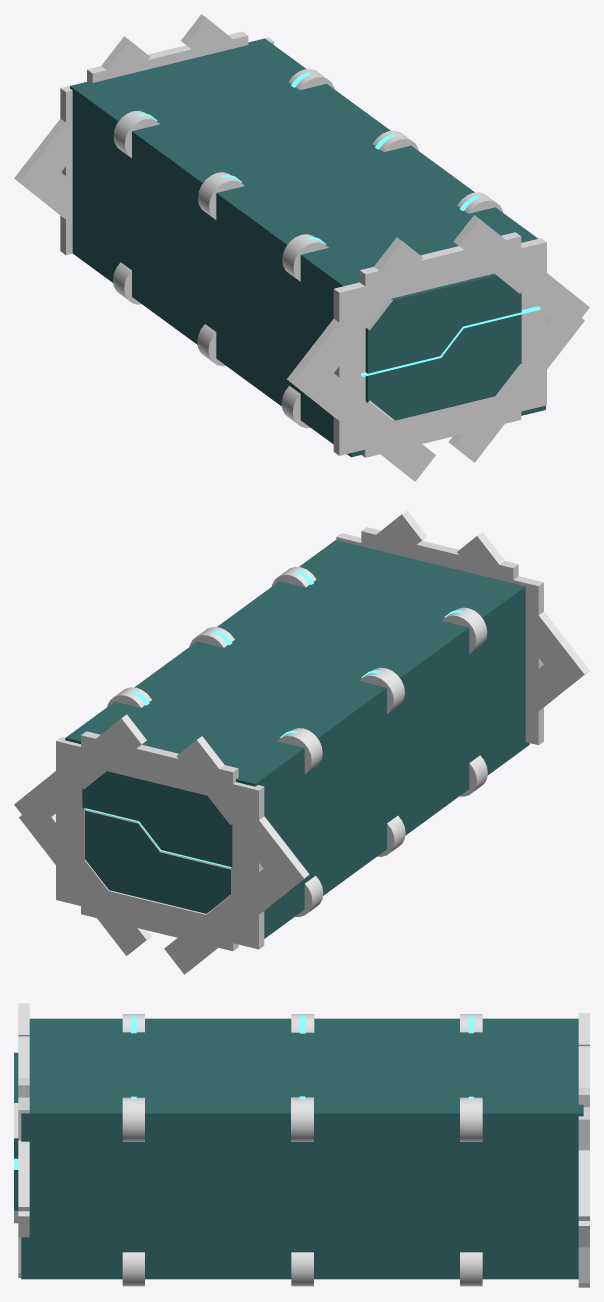
File: TunnelRm.fbx
3 views of the same model, one above another, from view 1: azimuth 30°, elevation 25°; view 2: azimuth 150°, elevation 25°; view 3: azimuth 270°, elevation 25° (orthographic). The views are drawn at different scales.
Parts seen in each view (by area): view 1: Ceiling, LWall, BackDoor9, BackWall9, BackWall11, BackWall10, BackWall8, BackWall15, BackWall13, BackWall14, BackWall4, BackWall12 (+11 smaller); view 2: Ceiling, LWall, BackDoor8, BackDoor11, BackWall, BackWall2, BackWall3, BackWall1, BackWall4, BackWall7, BackWall5, BackWall11 (+8 smaller); view 3: RWall, Ceiling, Floor, BackWall14, BackWall7, pCylinder2, pCylinder3, pCylinder1, BackWall1, pCylinder5, pCylinder4, pCylinder6 (+5 smaller).
Boxes of the visible parts, x1,y1,x2,y2 form: Ceiling: [70, 38, 538, 288]; LWall: [72, 97, 334, 437]; BackDoor9: [365, 273, 521, 420]; BackWall9: [359, 232, 521, 304]; BackWall11: [287, 237, 422, 399]; BackWall10: [362, 389, 521, 457]; BackWall8: [517, 238, 546, 411]; BackWall15: [333, 282, 368, 455]; BackWall13: [305, 367, 435, 481]; BackWall14: [453, 215, 589, 333]; BackWall4: [14, 36, 149, 198]; BackWall12: [448, 304, 584, 462]; Ceiling: [65, 540, 525, 786]; LWall: [263, 594, 525, 932]; BackDoor8: [85, 809, 230, 913]; BackDoor11: [82, 771, 232, 866]; BackWall: [231, 782, 264, 949]; BackWall2: [81, 731, 238, 801]; BackWall3: [81, 885, 238, 951]; BackWall1: [56, 737, 85, 906]; BackWall4: [176, 736, 309, 894]; BackWall7: [14, 714, 146, 829]; BackWall5: [19, 801, 151, 955]; BackWall11: [457, 532, 589, 689]; RWall: [21, 1121, 578, 1273]; Ceiling: [21, 1018, 583, 1123]; Floor: [21, 1269, 578, 1279]; BackWall14: [18, 1037, 29, 1211]; BackWall7: [578, 1047, 589, 1220]; pCylinder2: [460, 1097, 482, 1141]; pCylinder3: [122, 1097, 144, 1141]; pCylinder1: [291, 1098, 313, 1141]; BackWall1: [578, 1107, 589, 1282]; pCylinder5: [291, 1252, 313, 1286]; pCylinder4: [460, 1252, 482, 1286]; pCylinder6: [122, 1252, 144, 1286].
Size of the model in its own units: 31.31 by 24.85 by 51.21.
